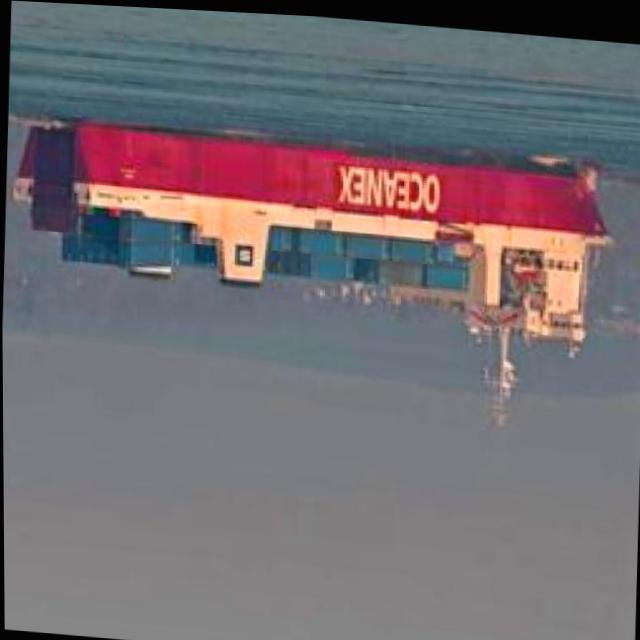ship2: (10, 116, 615, 423)
